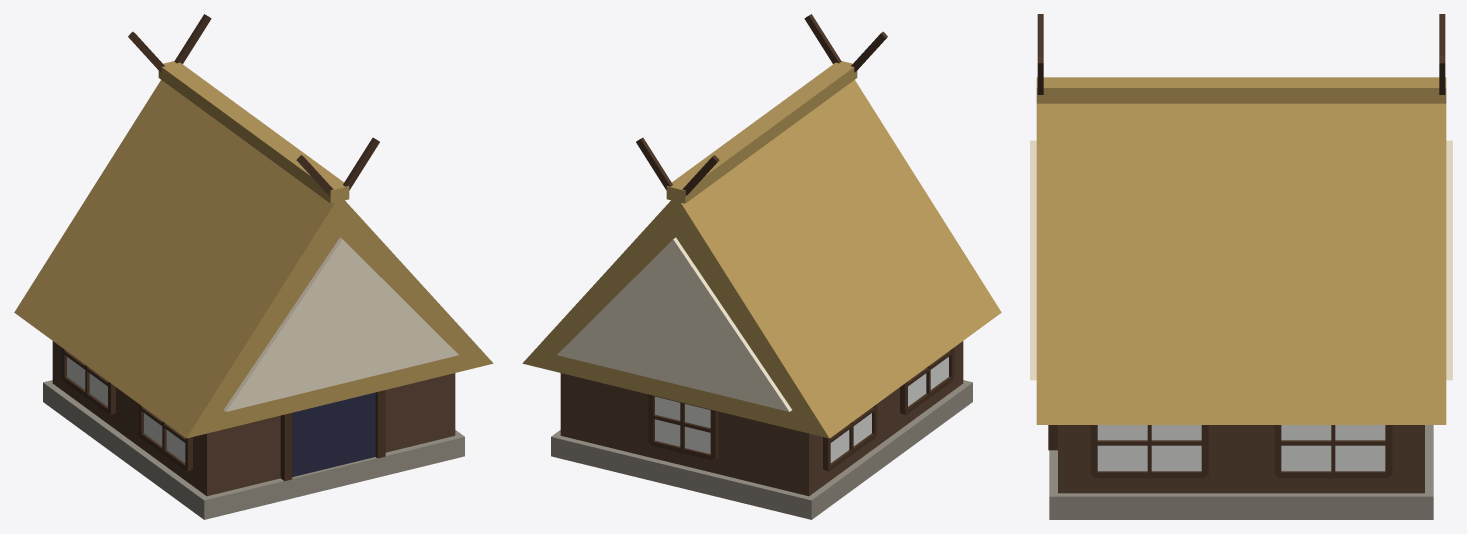
The model's file is house-1x1-1f-gassho-a.glb.
3 views of the same model, side by side, from view 1: azimuth 30°, elevation 25°; view 2: azimuth 150°, elevation 25°; view 3: azimuth 270°, elevation 25° (orthographic). The views are drawn at different scales.
Parts seen in each view (by area): view 1: house-1x1-1f-gassho-a; view 2: house-1x1-1f-gassho-a; view 3: house-1x1-1f-gassho-a.
Part boxes in pixels (box(x1,y1,x2,y2)): house-1x1-1f-gassho-a: box(14, 14, 493, 519); house-1x1-1f-gassho-a: box(522, 14, 1001, 519); house-1x1-1f-gassho-a: box(1030, 14, 1452, 519).
Bounding box in the file's own units: 0.99 × 1.06 × 0.99.
Materials: 1 (1 with a texture image).
